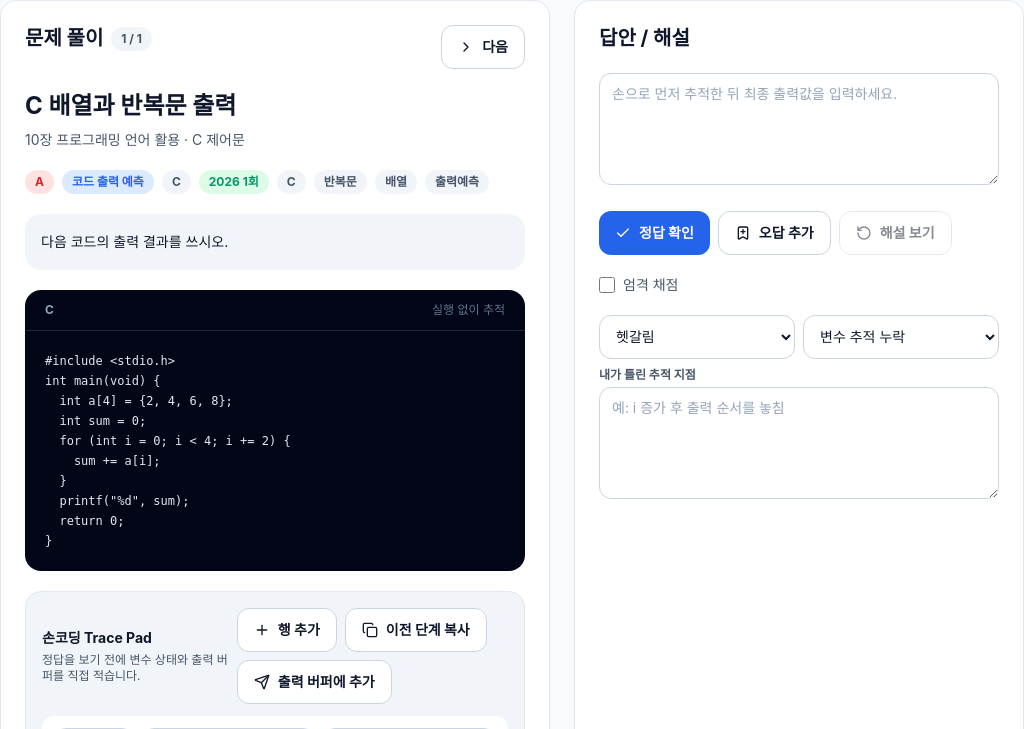
Test: QuestionSolver UX › 코드 출력 문제는 trace 없이 정답 확인을 막는다
This screenshot has width=1024, height=729.
Expected: the button "해설 보기" is disabled, [839,210,952,254]
Type "8" into the text box with placeholder "손으로 먼저 추적한 뒤 최종 출력값을 입력하세요." at (799, 128), box [599,72,999,184]
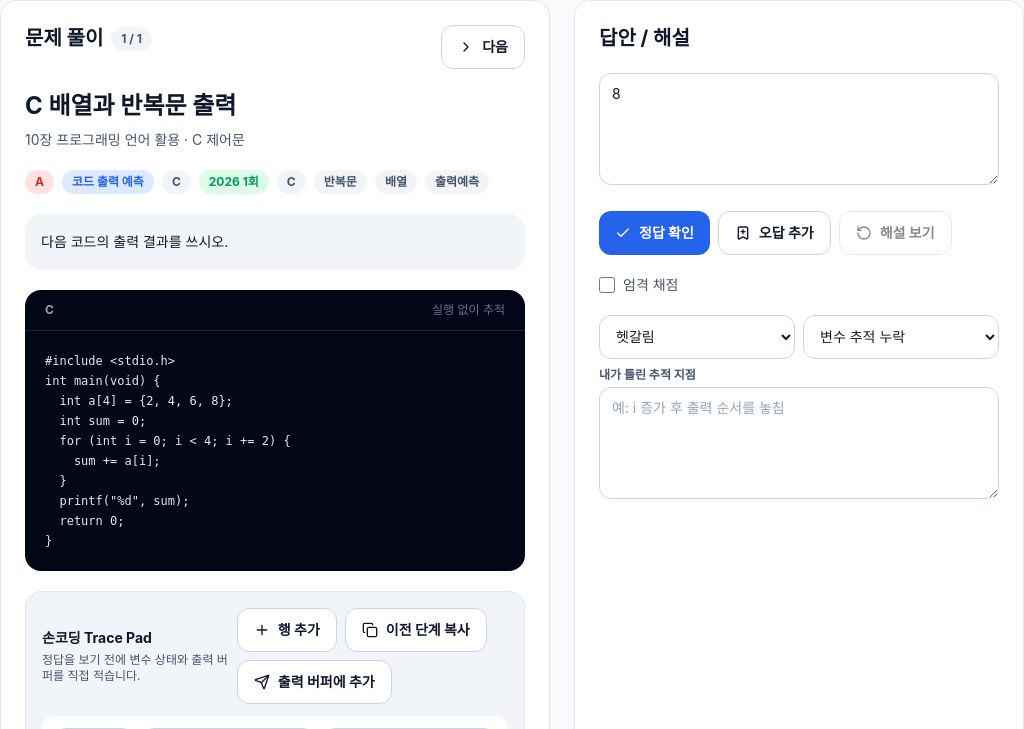
Click the button "정답 확인" at (654, 232), box [599,210,710,254]
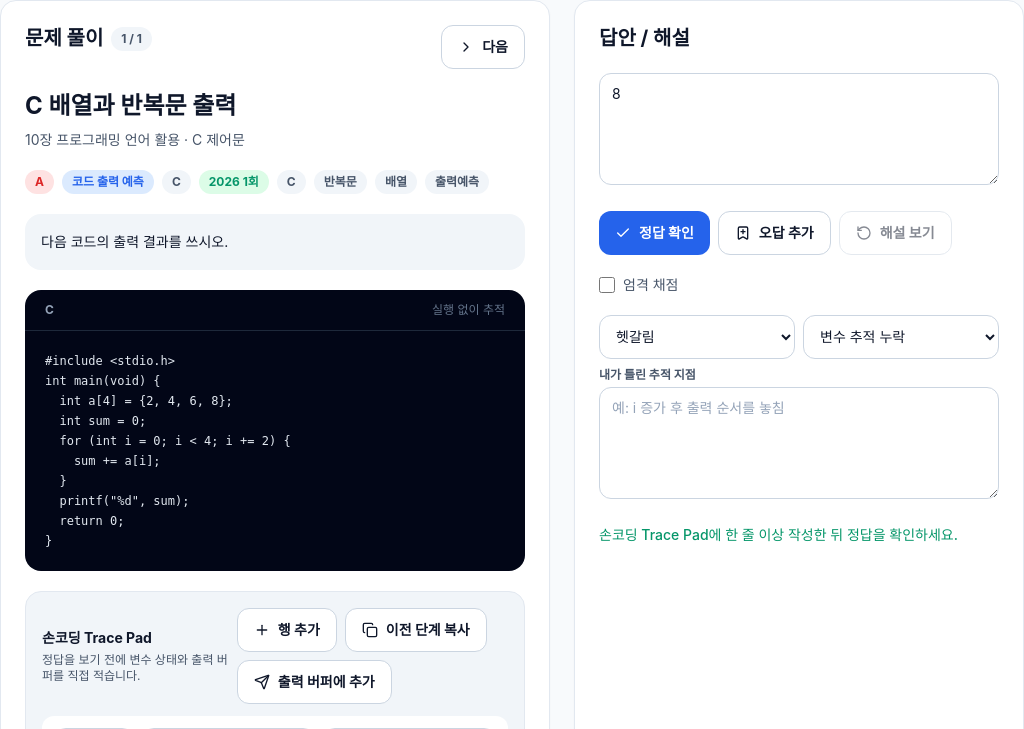
Expected: the text "손코딩 Trace Pad에 한 줄 이상 작성한 뒤 정답을 확인하세요." is shown, [599,524,999,544]
